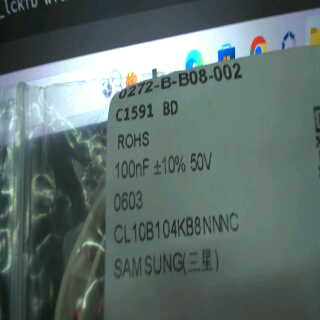100nF: (114, 154, 152, 183)
